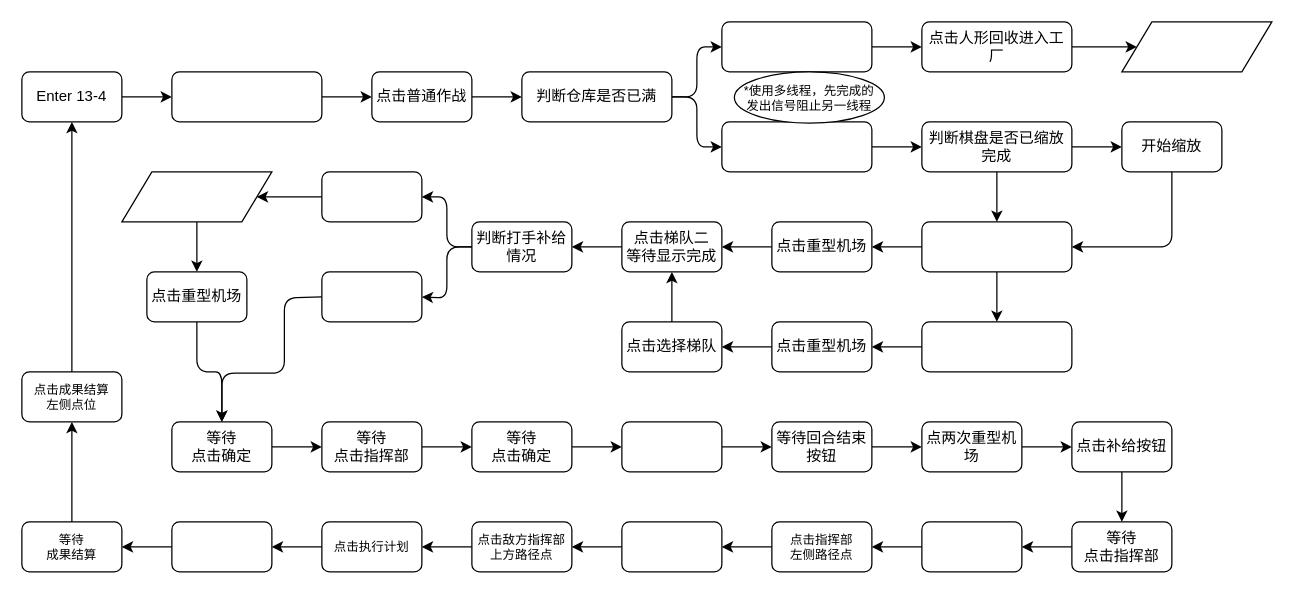
The diagram is 1294 pixels wide and 594 high, and some of its shapes have lost their labels. Each missing label, with the centre of its shape:
"不需要替换 点击梯队一" belongs at [371,296].
"休眠150秒" belongs at [221,546].
"判断打手并进行替换 返回棋盘" belongs at [196,196].
"开始寻找 重型机场，指挥部" belongs at [996,346].
"点击13-4并等待" belongs at [246,96].
"点击开始作战" belongs at [671,446].
"点击敌方指挥部" belongs at [671,546].
"点击计划模式" belongs at [971,546].
"等待已满提示" belongs at [796,46].
"等待开始作战按钮" belongs at [796,146].
"进行回收操作" belongs at [1196,46].
"重型机场，指挥部 是否完成寻找" belongs at [996,246].
"需要替换" belongs at [371,196].
